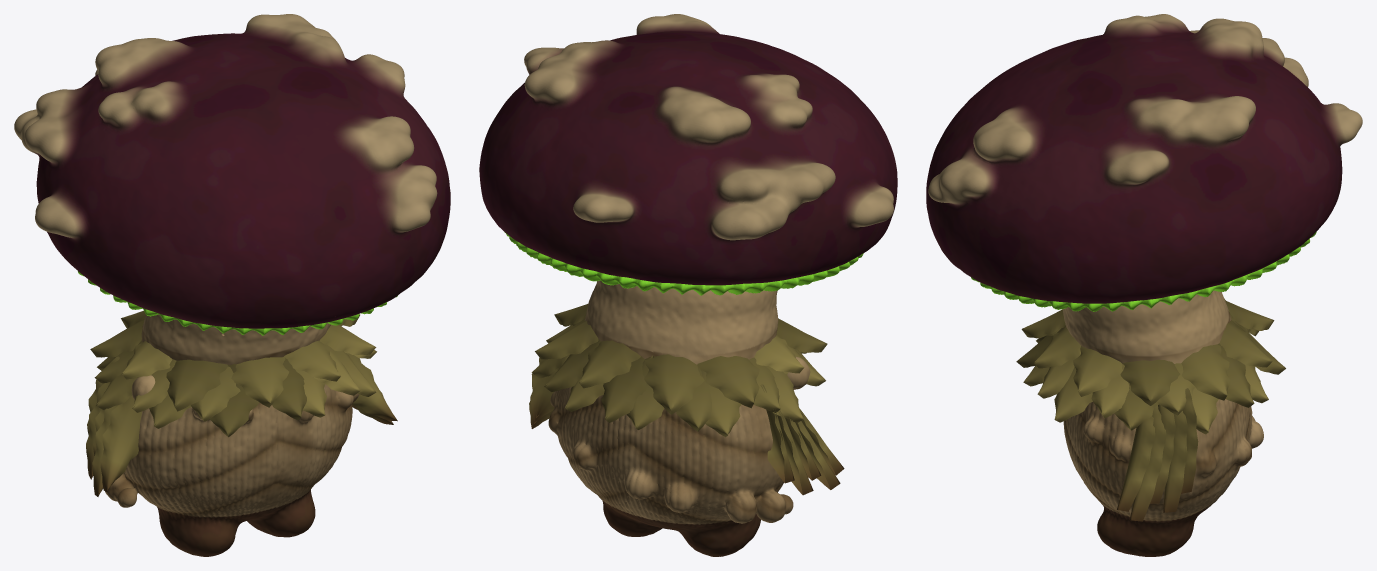
The model's file is glowcap-sculpt.glb.
3 views of the same model, side by side, from view 1: azimuth 30°, elevation 25°; view 2: azimuth 150°, elevation 25°; view 3: azimuth 270°, elevation 25° (orthographic).
Visible parts, largest first — view 1: glowcap_sculpt; view 2: glowcap_sculpt; view 3: glowcap_sculpt.
Part boxes in pixels (bbox=[...]): glowcap_sculpt: bbox=[14, 14, 450, 556]; glowcap_sculpt: bbox=[479, 14, 897, 556]; glowcap_sculpt: bbox=[926, 14, 1362, 556].
Size of the model in its own units: 0.6524 by 0.776 by 0.6467.
